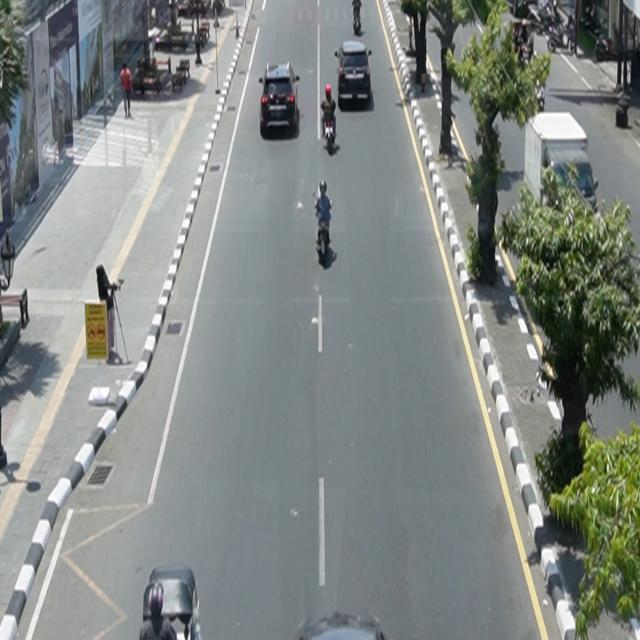car: (140, 566, 203, 640), (259, 62, 301, 139), (335, 41, 373, 107)
